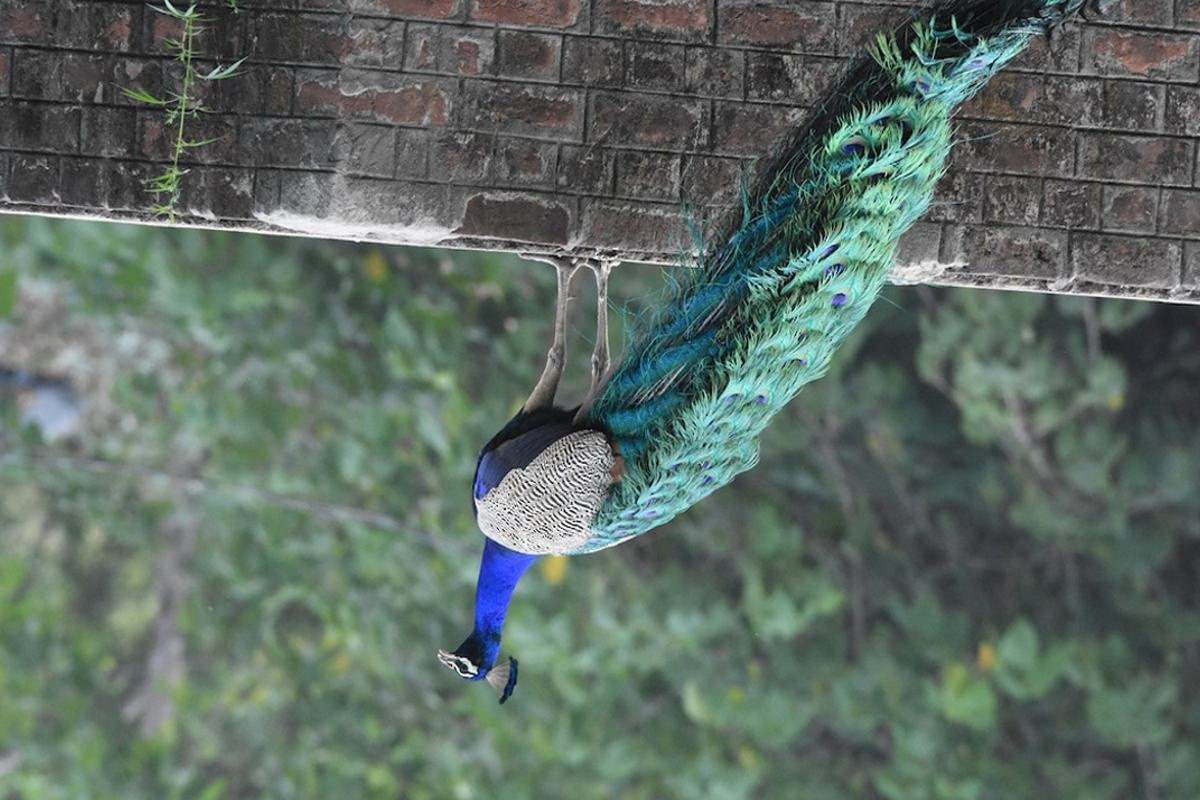peacock: (415, 6, 1020, 704)
